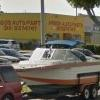Boat: (8, 36, 100, 96)
